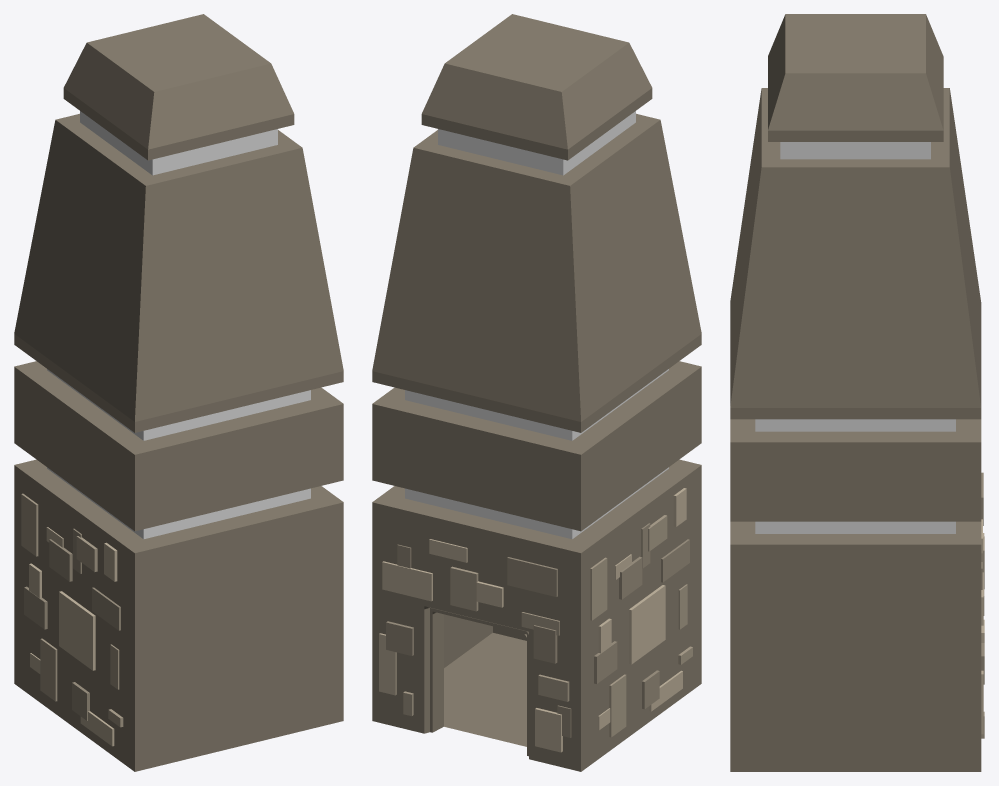
The model's file is tower_1.fbx.
3 renders of one model, left to right at view 1: azimuth 30°, elevation 25°; view 2: azimuth 150°, elevation 25°; view 3: azimuth 270°, elevation 25°, orthographic. The views are drawn at different scales.
Visible parts, largest first — view 1: Cube; view 2: Cube; view 3: Cube.
Part boxes in pixels (x1=…): Cube: x1=14, y1=14, x2=343, y2=771; Cube: x1=372, y1=14, x2=701, y2=771; Cube: x1=730, y1=14, x2=984, y2=771.
Bounding box in the file's own units: 50.68 × 148 × 50.72.
